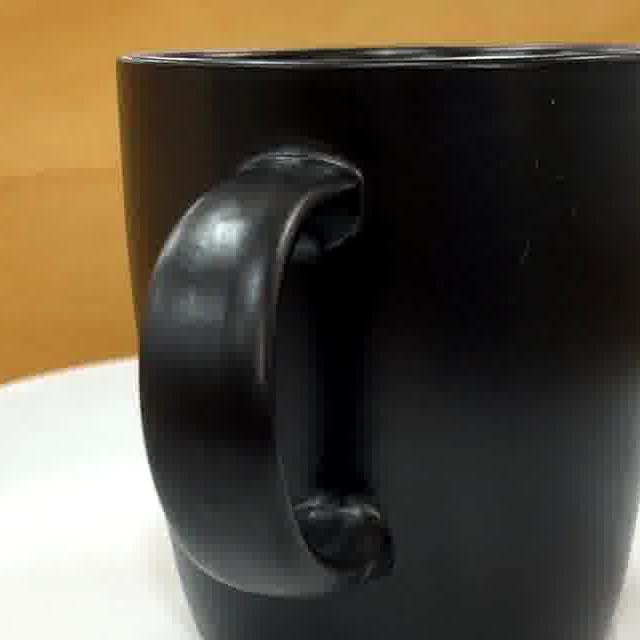cup: (124, 49, 640, 640)
